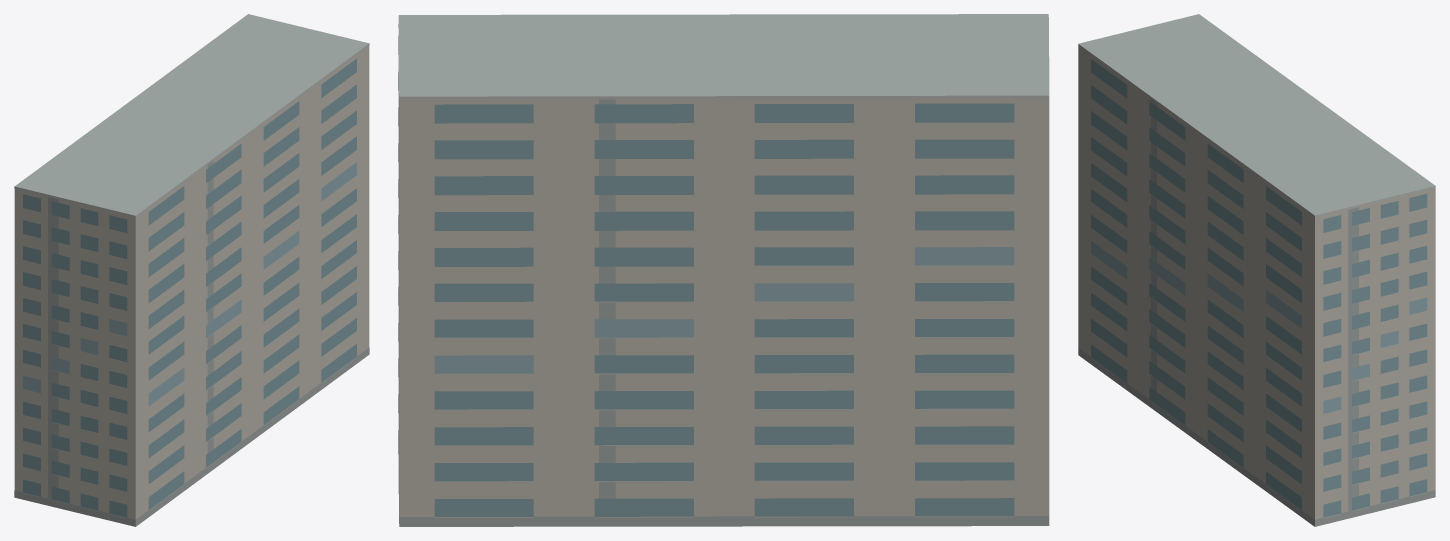
File: residential-c3e72f41-ba3e-468b-957b-bad4b9cd5aad.glb
3 views of the same model, side by side, from view 1: azimuth 30°, elevation 25°; view 2: azimuth 150°, elevation 25°; view 3: azimuth 270°, elevation 25° (orthographic). The views are drawn at different scales.
Parts seen in each view (by area): view 1: residential-c3e72f41-ba3e-468b-957b-bad4b9cd5aad.tmp; view 2: residential-c3e72f41-ba3e-468b-957b-bad4b9cd5aad.tmp; view 3: residential-c3e72f41-ba3e-468b-957b-bad4b9cd5aad.tmp.
Boxes of the visible parts, x1=… form: residential-c3e72f41-ba3e-468b-957b-bad4b9cd5aad.tmp: x1=14, y1=14, x2=369, y2=526; residential-c3e72f41-ba3e-468b-957b-bad4b9cd5aad.tmp: x1=398, y1=14, x2=1049, y2=526; residential-c3e72f41-ba3e-468b-957b-bad4b9cd5aad.tmp: x1=1078, y1=14, x2=1435, y2=526.
Bounding box in the file's own units: 47.22 × 34 × 35.39.
